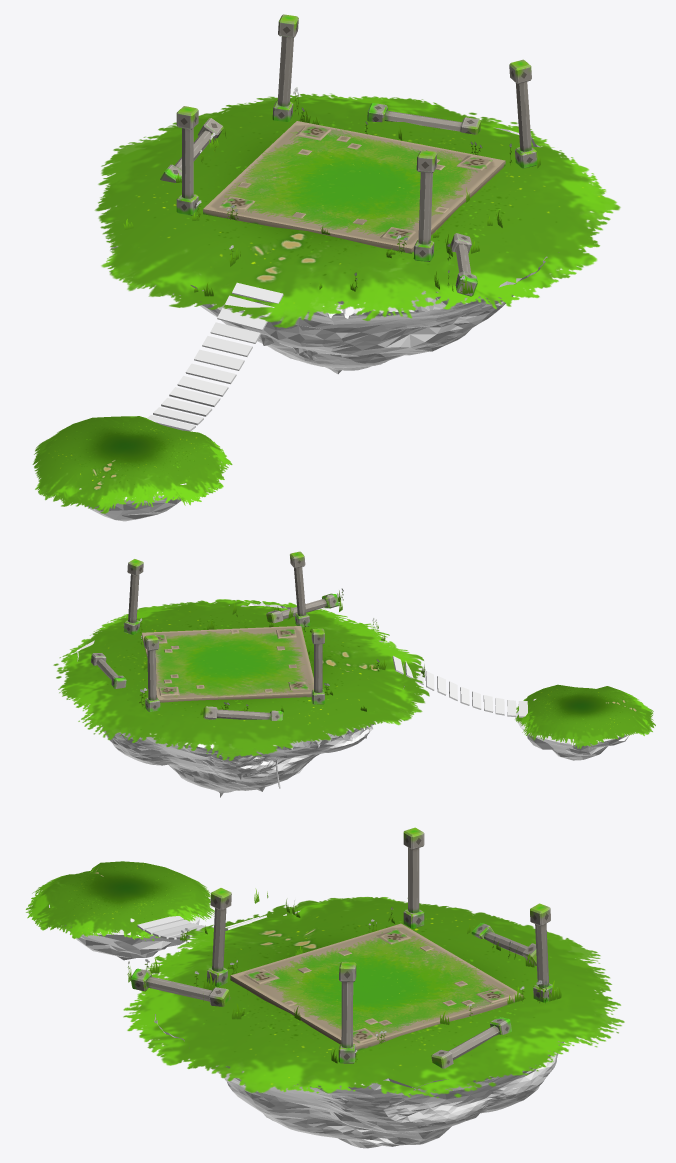
3 renders of one model, top to bottom at view 1: azimuth 30°, elevation 25°; view 2: azimuth 150°, elevation 25°; view 3: azimuth 270°, elevation 25°, orthographic. The views are drawn at different scales.
Visible parts, largest first — view 1: Groundlush1_Groundlush_0.001, Cubicplatform_Cubic_0, Groundlush1, Main island_69, stairs.007_24, small island.001_74, polySurface70, polySurface64, polySurface67, polySurface73, polySurface61; view 2: Groundlush1_Groundlush_0.001, Cubicplatform_Cubic_0, Main island_69, Groundlush1, stairs.007_24, small island.001_74, polySurface76, polySurface64, polySurface67, polySurface73, polySurface70; view 3: Groundlush1_Groundlush_0.001, Cubicplatform_Cubic_0, Main island_69, Groundlush1, small island.001_74, stairs.007_24, polySurface67, polySurface79, polySurface73, polySurface70, polySurface64, polySurface61 (+1 smaller).
Boxes of the visible parts, x1,y1,x2,y2 form: Groundlush1_Groundlush_0.001: (95, 93, 620, 328); Cubicplatform_Cubic_0: (203, 121, 505, 253); Groundlush1: (32, 416, 232, 513); Main island_69: (107, 127, 558, 374); stairs.007_24: (147, 282, 283, 431); small island.001_74: (37, 449, 186, 521); polySurface70: (418, 172, 432, 244); polySurface64: (277, 36, 293, 106); polySurface67: (515, 81, 531, 151); polySurface73: (182, 128, 193, 198); polySurface61: (384, 110, 461, 131); Groundlush1_Groundlush_0.001: (53, 599, 429, 760); Cubicplatform_Cubic_0: (142, 626, 313, 702); Main island_69: (77, 602, 405, 797); Groundlush1: (515, 684, 655, 748); stairs.007_24: (392, 656, 527, 717); small island.001_74: (515, 711, 629, 760); polySurface76: (217, 709, 270, 719); polySurface64: (147, 650, 156, 700); polySurface67: (128, 574, 139, 622); polySurface73: (314, 644, 322, 692); polySurface70: (294, 567, 305, 616); Groundlush1_Groundlush_0.001: (123, 897, 624, 1098); Cubicplatform_Cubic_0: (230, 923, 523, 1050); Main island_69: (154, 910, 564, 1148); Groundlush1: (26, 861, 214, 940); small island.001_74: (49, 889, 209, 960); stairs.007_24: (137, 915, 266, 939); polySurface67: (341, 982, 353, 1048); polySurface79: (146, 976, 211, 1001); polySurface73: (408, 847, 419, 912); polySurface70: (212, 908, 226, 971); polySurface64: (535, 923, 549, 987); polySurface61: (448, 1025, 499, 1060).
Size of what is drawn, in the model's own units: 38.22 by 13.86 by 31.87.
Materials: 24 (6 with a texture image).
